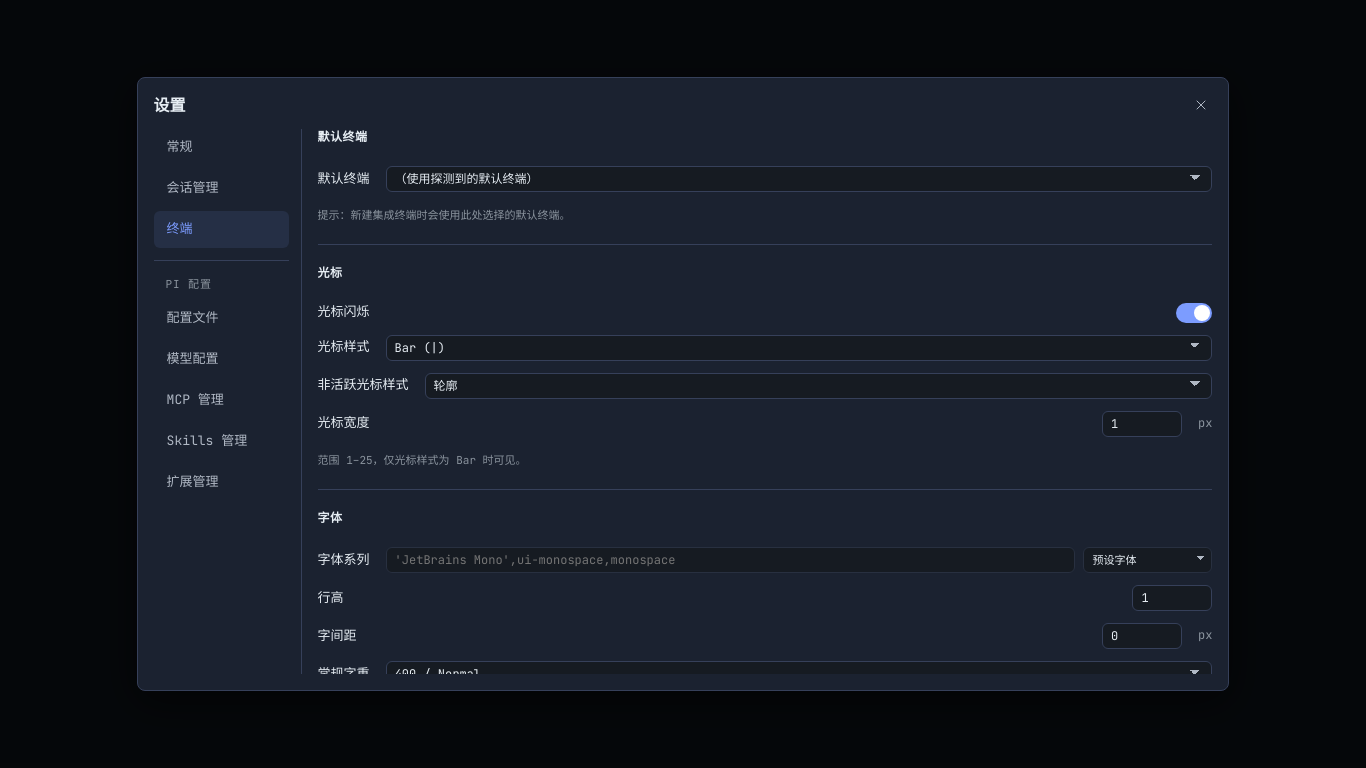
Test: SettingsPanel 终端设置 › customGlyphs / gpuAcceleration 设置 › 加载配置时从 config 读取 customGlyphs 和 gpuAcceleration
Click the button "终端".
click(221, 229)  # box [154,211,289,248]
(page scrolled)
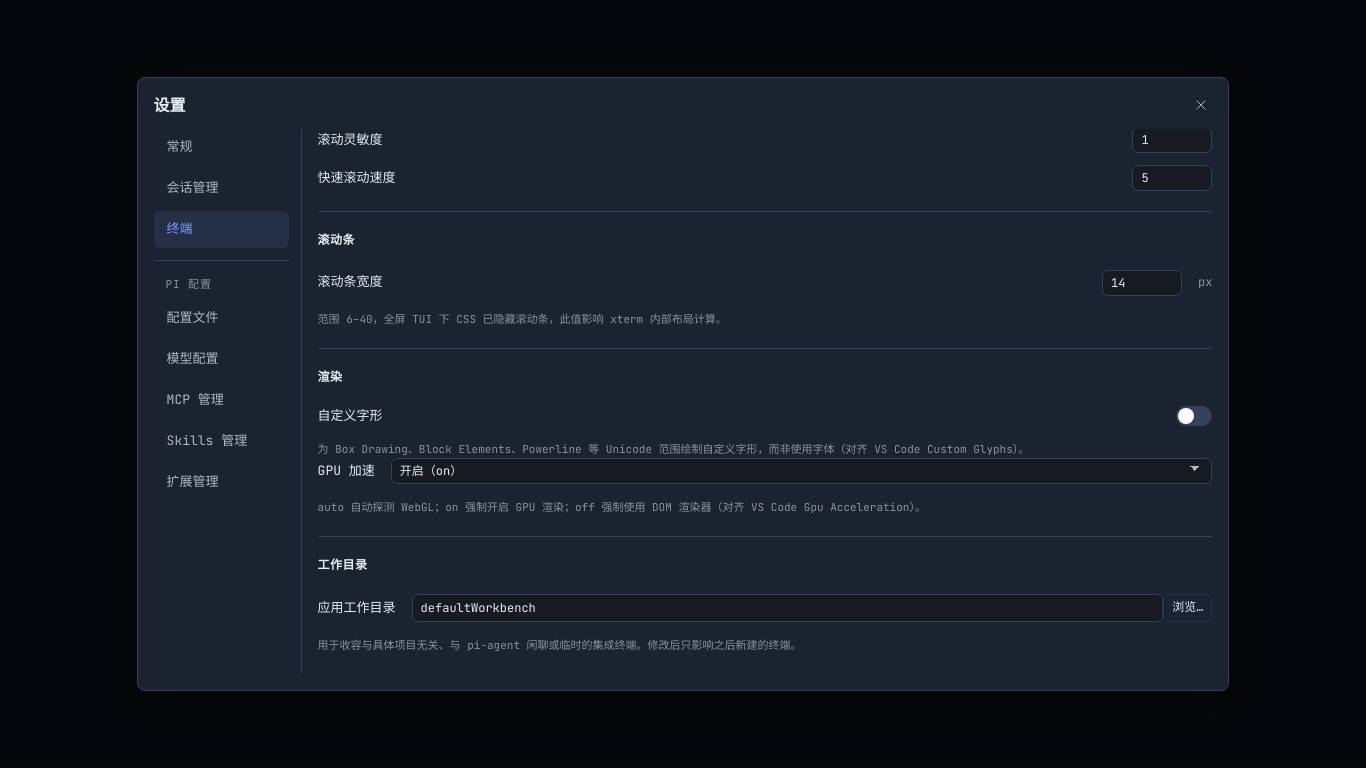
Check: the checkbox named "自定义字形" is not checked, box [1176,406,1212,426]
Check: the dropdown named "GPU 加速" shows "开启（on）", box [391,458,1212,484]
